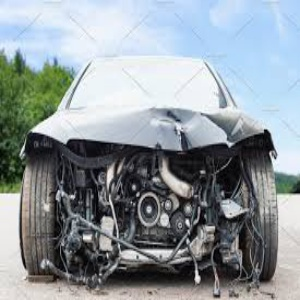bonnet: (60, 99, 258, 152)
bumper: (62, 167, 257, 296)
